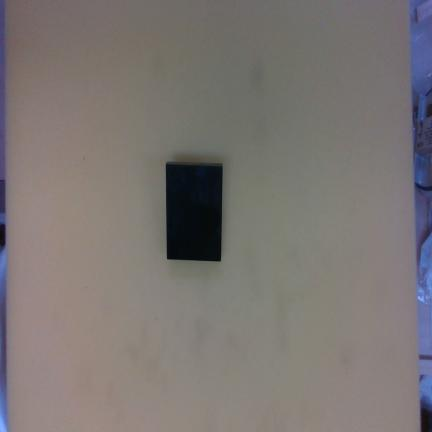tile: (164, 164, 223, 262)
